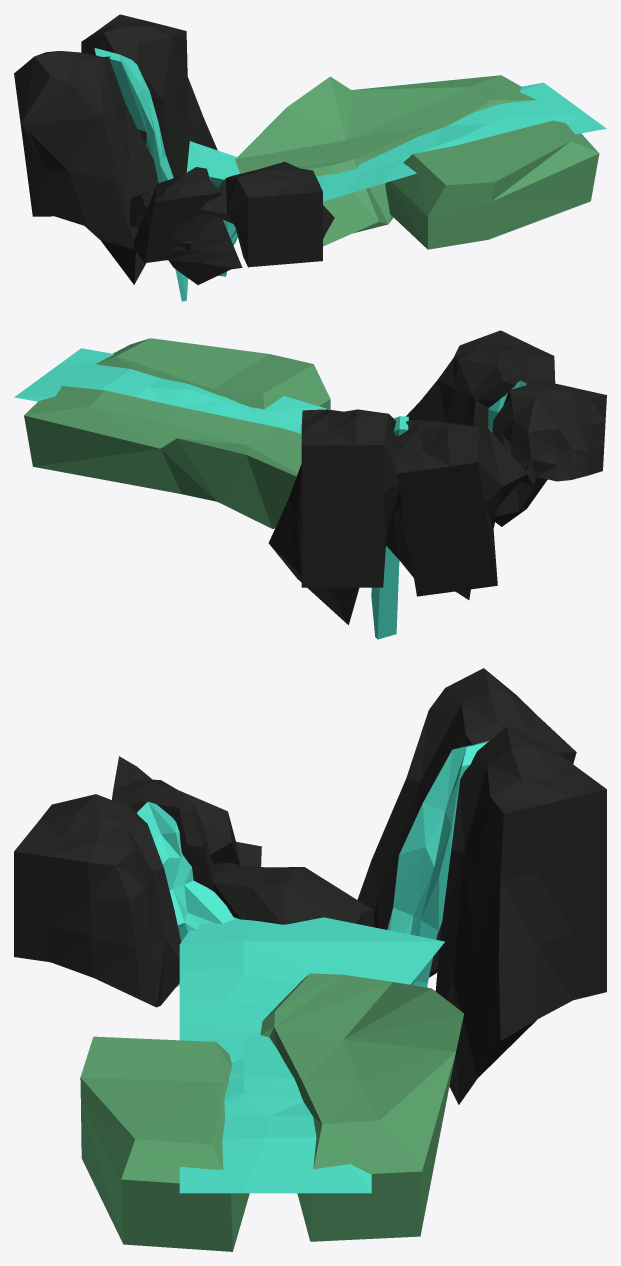
File: background start.fbx
The picture shows the model from 3 angles, top to bottom: view 1: azimuth 30°, elevation 25°; view 2: azimuth 150°, elevation 25°; view 3: azimuth 270°, elevation 25°; orthographic projection. The views are drawn at different scales.
Parts seen in each view (by area): view 1: Куб.024; view 2: Куб.024; view 3: Куб.024.
Boxes of the visible parts, left/top/right/bottom form: Куб.024: left=14, top=14, right=606, bottom=301; Куб.024: left=14, top=330, right=606, bottom=639; Куб.024: left=14, top=668, right=606, bottom=1251.
Bounding box in the file's own units: 15331 × 7246 × 10313.
